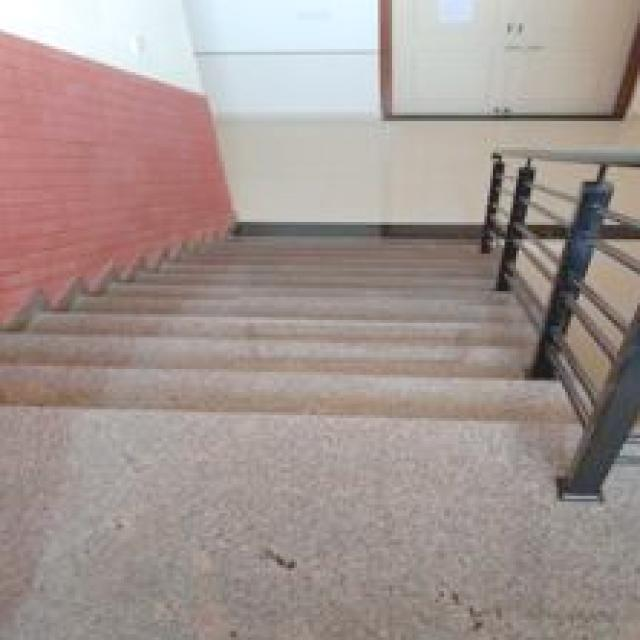downstair: (56, 275, 480, 479)
